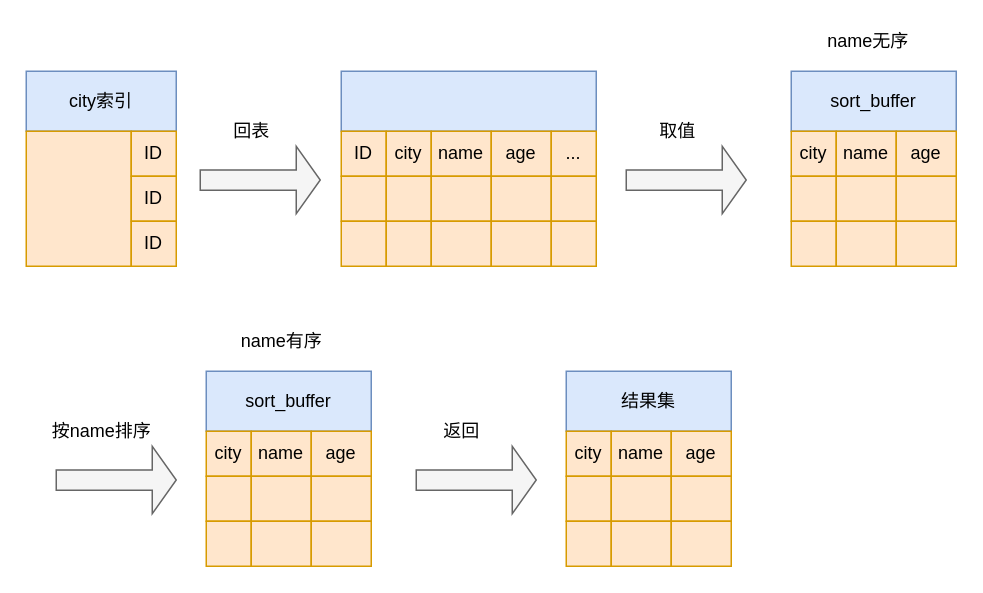
The diagram is 983 pixels wide and 593 high, and some of its shapes have lost their labels. The centre of each missing label's shape, as x and y in pixels:
"city= 杭州" belongs at pixel 78 198.
"主键索引" belongs at pixel 468 100.
